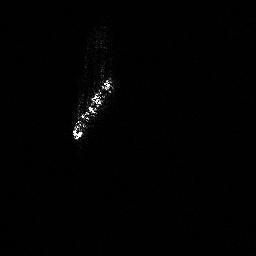ship: (66, 71, 117, 145)
